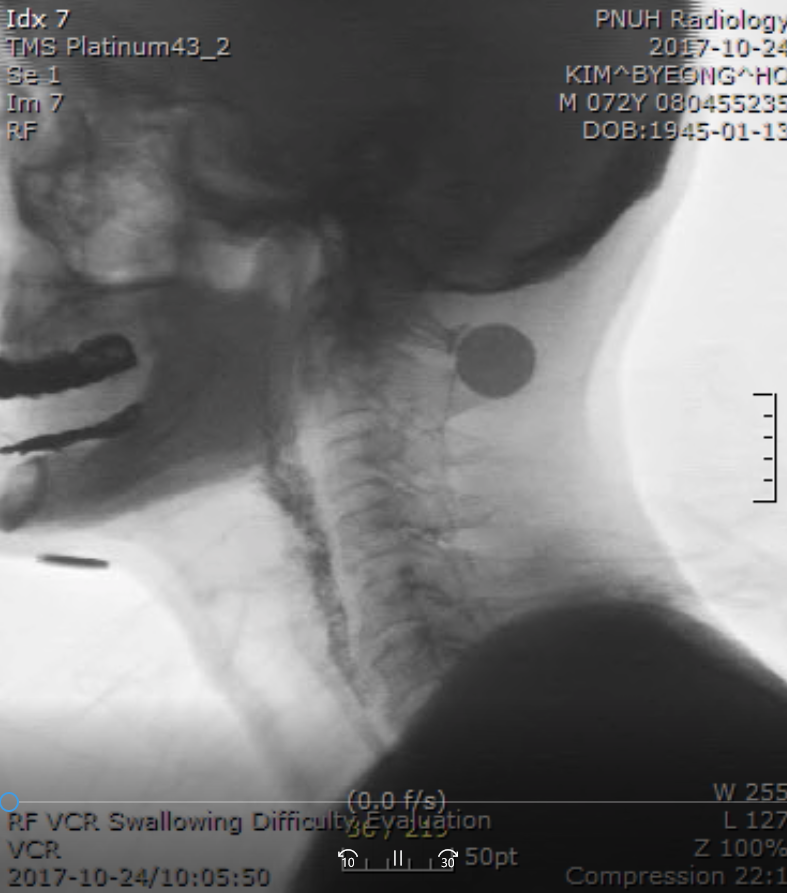food: (273, 426, 359, 707)
